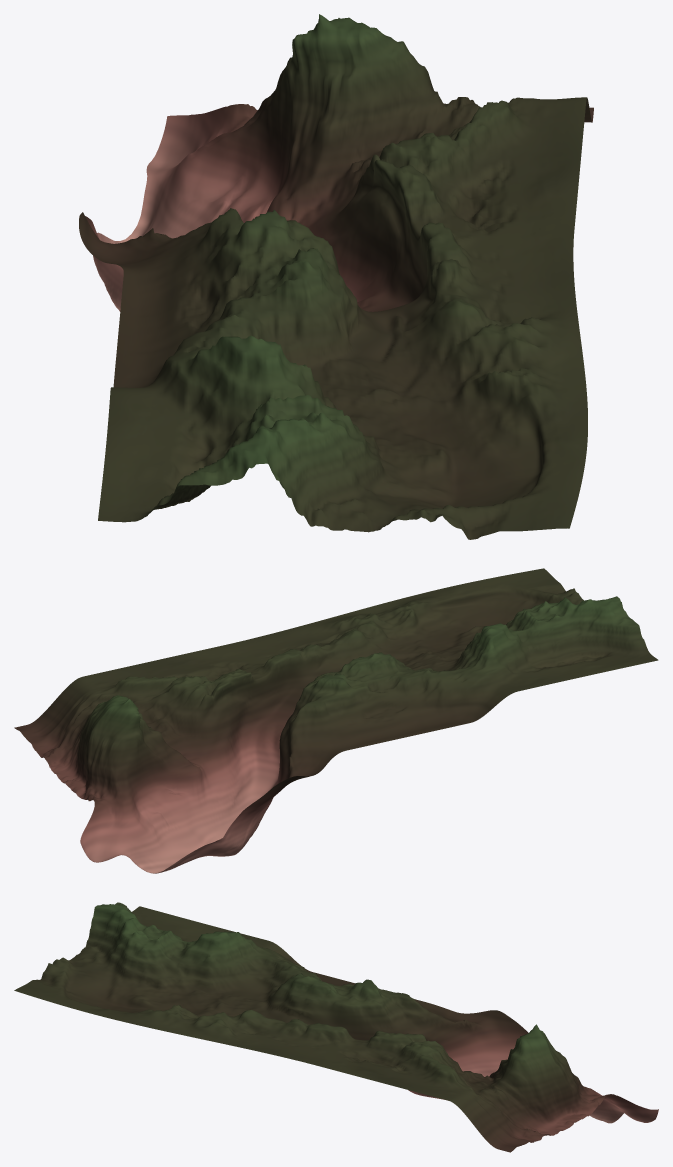
Rendered from montaña04.001.fbx.
The picture shows the model from 3 angles, top to bottom: view 1: azimuth 30°, elevation 25°; view 2: azimuth 150°, elevation 25°; view 3: azimuth 270°, elevation 25°; orthographic projection. The views are drawn at different scales.
Parts seen in each view (by area): view 1: montaña04.001; view 2: montaña04.001; view 3: montaña04.001.
Part boxes in pixels (x1,y1,x2,y2): montaña04.001: [79, 14, 593, 539]; montaña04.001: [14, 568, 658, 873]; montaña04.001: [14, 902, 658, 1152].
Size of the model in its own units: 510 by 148 by 658.
